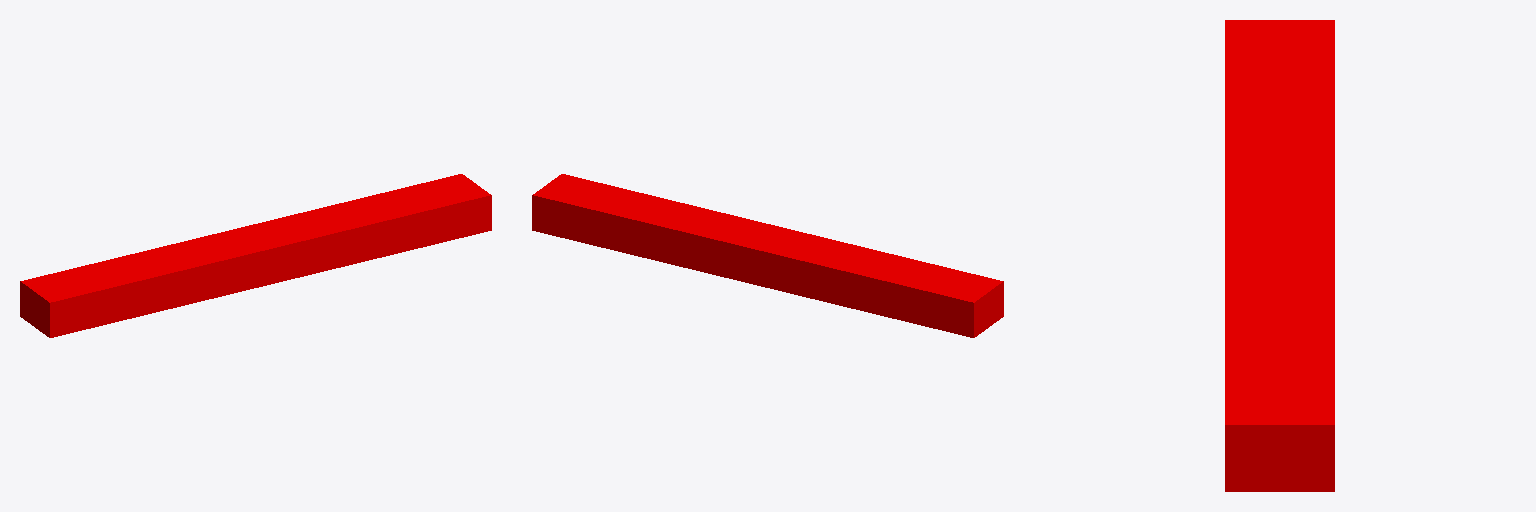
robot.urdf — wall1:
<?xml version="1.0"?>
<robot name="wall1">
	<link name="base">
	<inertial>
        	 <origin xyz="0 0 0" rpy="0 0 0"/>
        	 <mass value="10"/>
        	 <inertia ixx="0.000683333"  ixy="0"  ixz="0" iyy="0.000683333" iyz="0" izz="0.000683333" />
       </inertial>
		<visual>
			<origin xyz="0 0 0" rpy="0 0 0" />
			<geometry>
				<box size="0.26 0.03 0.02" />
			</geometry>
			<material>
				<color rgba="1 0 0 1" />
			</material>
		</visual>
	</link>
</robot>

--- Render facts (derived) ---
3 views of the same robot in one strip: view 1: azimuth 30°, elevation 25°; view 2: azimuth 150°, elevation 25°; view 3: azimuth 270°, elevation 25° (orthographic).
Model wall1 with 1 links and 0 joints (none), rooted at base, posed all joints at 0.
Visible links, largest first — view 1: base; view 2: base; view 3: base.
Link boxes in pixels (box(x1,y1,x2,y2)): base: box(20, 174, 491, 337); base: box(532, 174, 1003, 337); base: box(1225, 20, 1334, 491).
Size in the robot's own frame: 0.26 by 0.03 by 0.02 metres.
Geometry: primitives only (box / cylinder / sphere), no mesh files.
